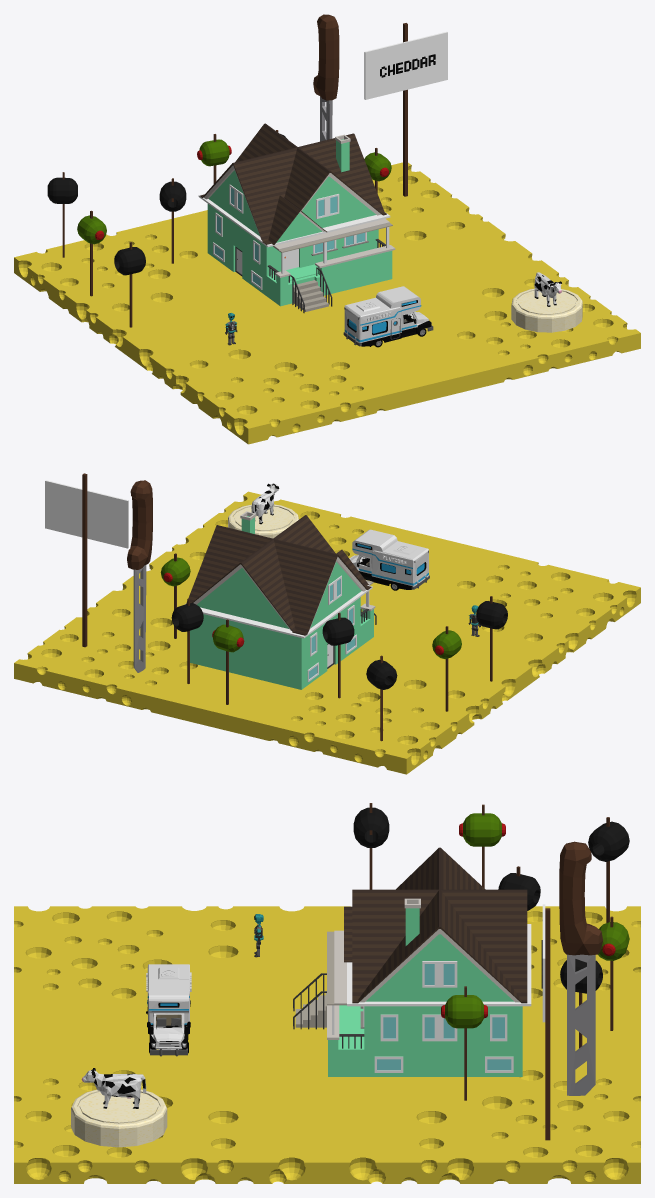
3 renders of one model, top to bottom at view 1: azimuth 30°, elevation 25°; view 2: azimuth 150°, elevation 25°; view 3: azimuth 270°, elevation 25°, orthographic. The views are drawn at different scales.
Parts seen in each view (by area): view 1: Cube.022, Cube.352, Cube.023, VEHICLES_CAMPER, Cylinder.016, Cube.024, Sphere.017, Sphere.016, Sphere.020, Sphere.018, Sphere.022, Sphere.019; view 2: Cube.022, Cube.352, Cube.023, VEHICLES_CAMPER, Cube.024, Cylinder.016, Sphere.017, Sphere.020, Sphere.021, Sphere.016, Sphere.018, Sphere.022 (+2 smaller); view 3: Cube.022, Cube.352, Cube.024, Cylinder.016, VEHICLES_CAMPER, Cube.023, Sphere.019, Sphere.016, Sphere.018, ANIMAL_VACA, Sphere.017, Sphere.022 (+2 smaller).
Boxes of the visible parts, bbox=[...] form: Cube.022: bbox=[14, 162, 640, 444]; Cube.352: bbox=[198, 123, 395, 313]; Cube.023: bbox=[364, 23, 447, 196]; VEHICLES_CAMPER: bbox=[343, 286, 433, 347]; Cylinder.016: bbox=[511, 288, 582, 332]; Cube.024: bbox=[313, 14, 339, 141]; Sphere.017: bbox=[114, 242, 145, 327]; Sphere.016: bbox=[47, 172, 77, 257]; Sphere.020: bbox=[159, 178, 186, 263]; Sphere.018: bbox=[77, 210, 106, 296]; Sphere.022: bbox=[197, 134, 231, 183]; Sphere.019: bbox=[364, 148, 391, 192]; Cube.022: bbox=[14, 491, 640, 774]; Cube.352: bbox=[185, 511, 376, 689]; Cube.023: bbox=[45, 473, 128, 647]; VEHICLES_CAMPER: bbox=[349, 529, 429, 590]; Cube.024: bbox=[127, 480, 152, 672]; Cylinder.016: bbox=[228, 504, 298, 538]; Sphere.017: bbox=[476, 596, 507, 681]; Sphere.020: bbox=[322, 612, 354, 698]; Sphere.021: bbox=[171, 598, 203, 683]; Sphere.016: bbox=[366, 655, 397, 741]; Sphere.018: bbox=[432, 626, 461, 711]; Sphere.022: bbox=[212, 619, 244, 704]; Cube.022: bbox=[14, 906, 640, 1183]; Cube.352: bbox=[293, 847, 531, 1076]; Cube.024: bbox=[559, 841, 602, 1095]; Cylinder.016: bbox=[71, 1089, 167, 1147]; VEHICLES_CAMPER: bbox=[146, 964, 191, 1056]; Cube.023: bbox=[541, 904, 550, 1140]; Sphere.019: bbox=[441, 986, 487, 1100]; Sphere.016: bbox=[588, 817, 629, 922]; Sphere.018: bbox=[459, 804, 505, 887]; ANIMAL_VACA: bbox=[81, 1068, 146, 1108]; Sphere.017: bbox=[353, 803, 389, 889]; Sphere.022: bbox=[598, 916, 629, 1030].
Size of the model in its own units: 3917 by 2010 by 4000.
37 materials, 3 textured.
